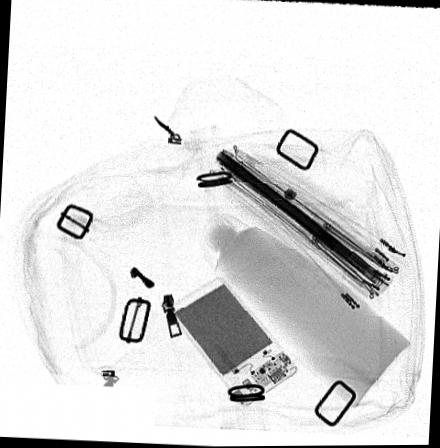Powerbank: (170, 276, 298, 408)
